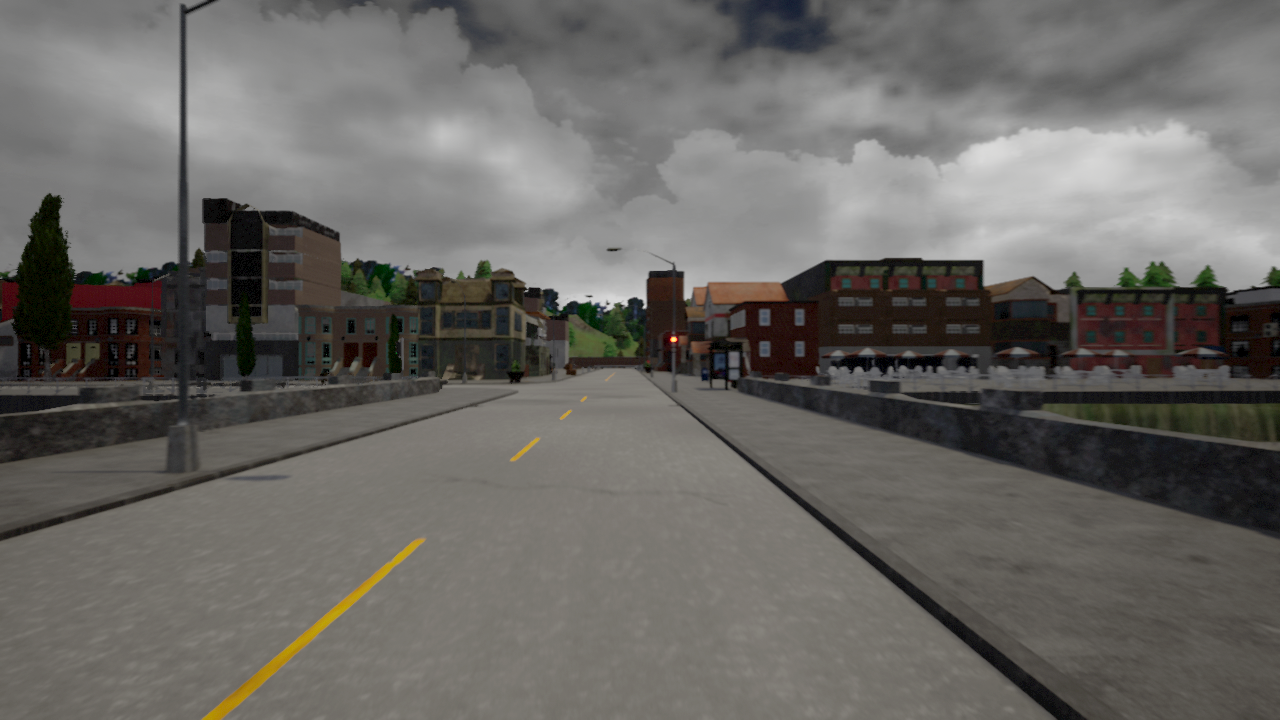red: (668, 334, 678, 353)
